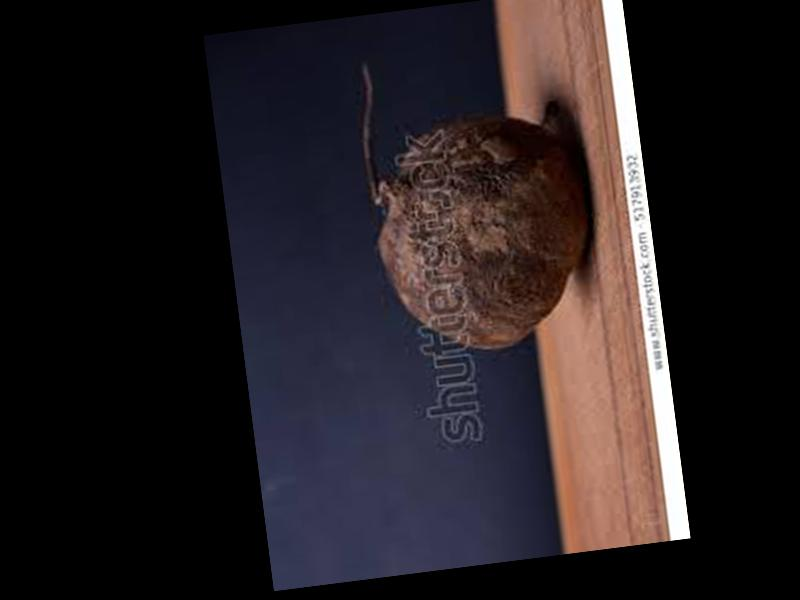Beet: (351, 33, 602, 361)
